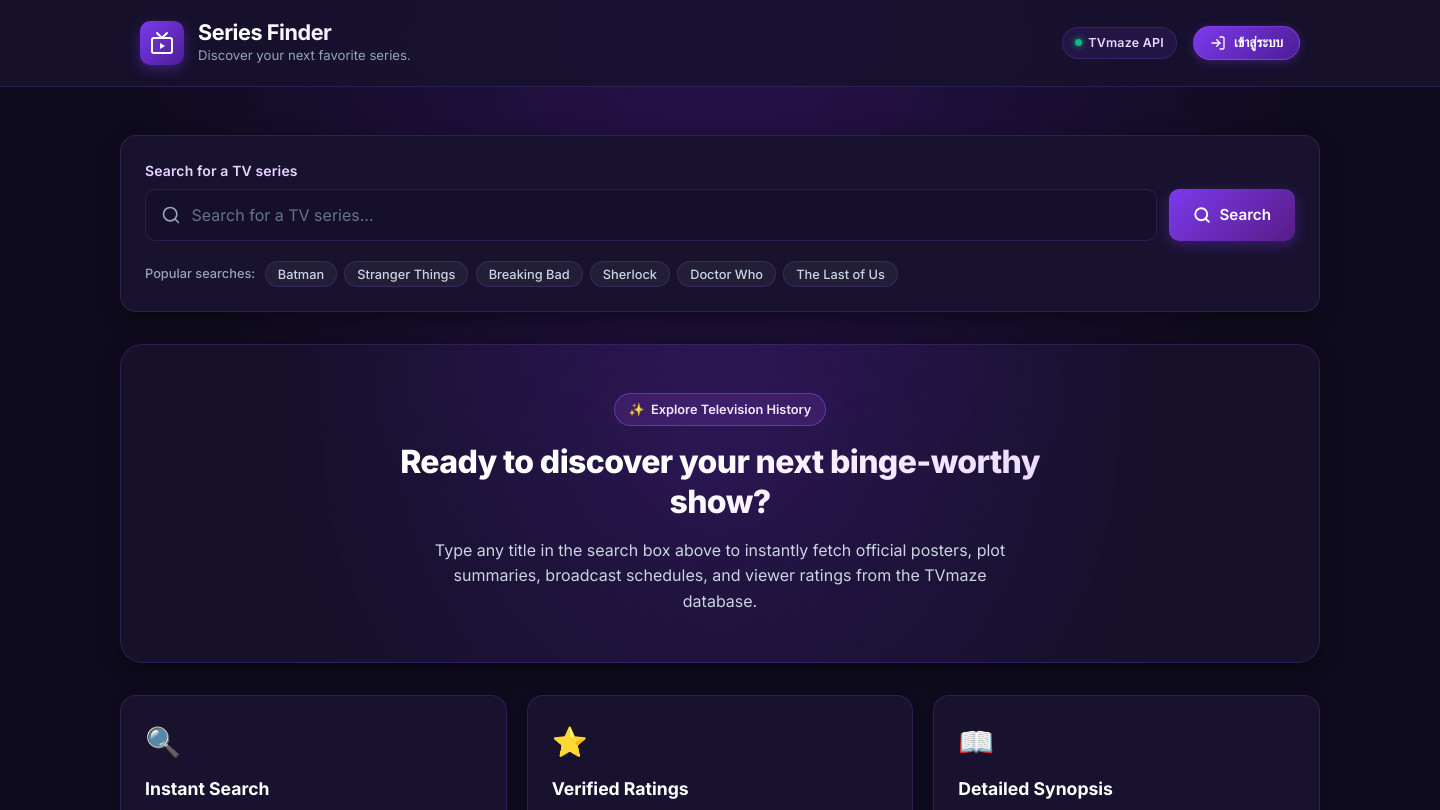
Scenario: Series Finder Web Application › safely handles missing poster, unrated scores, and missing metadata
The image size is (1440, 810).
Type "mystery" into the field labelled "Search for a TV series". click: (651, 215)
box: [145,189,1157,241]
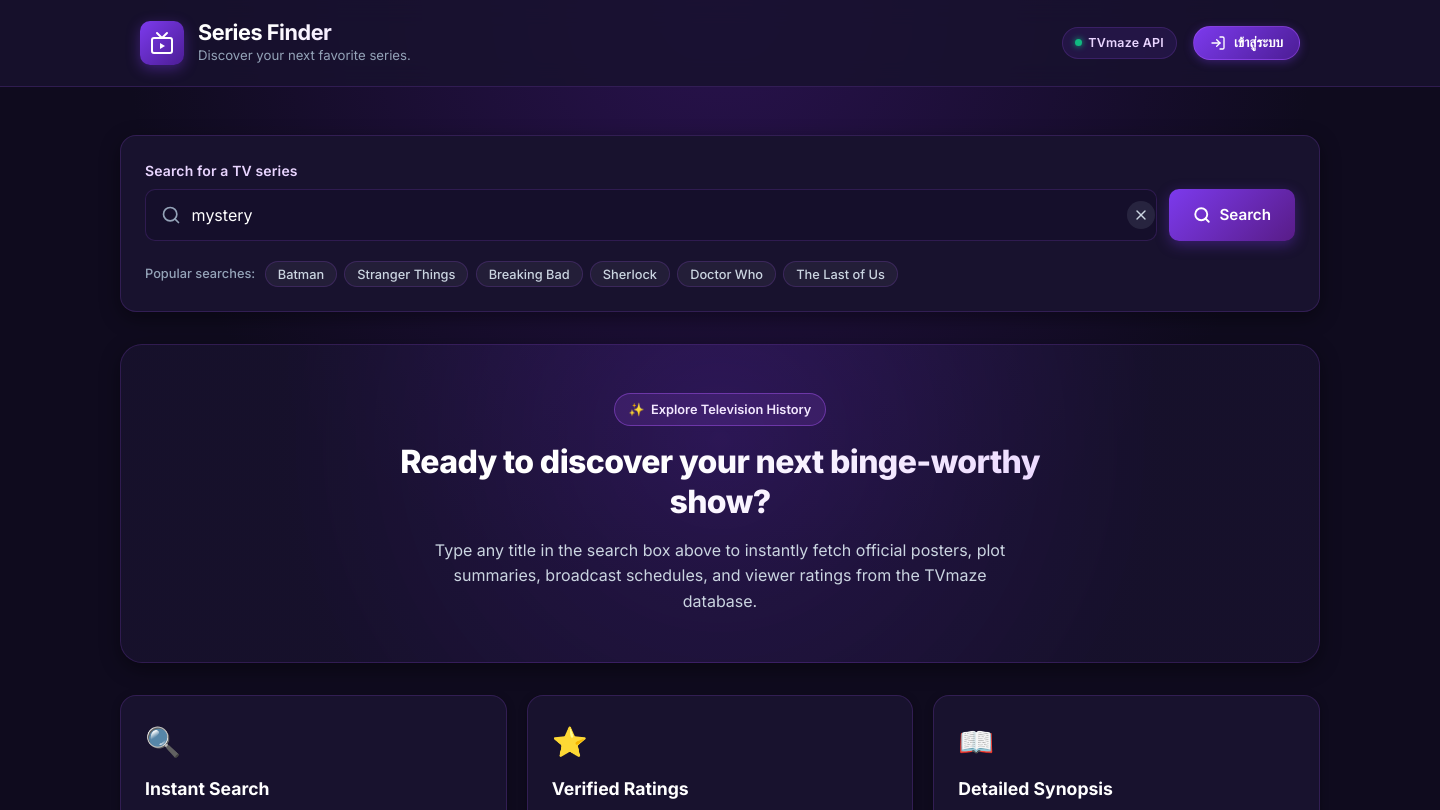
Submit the form, box [120,135,1320,312]
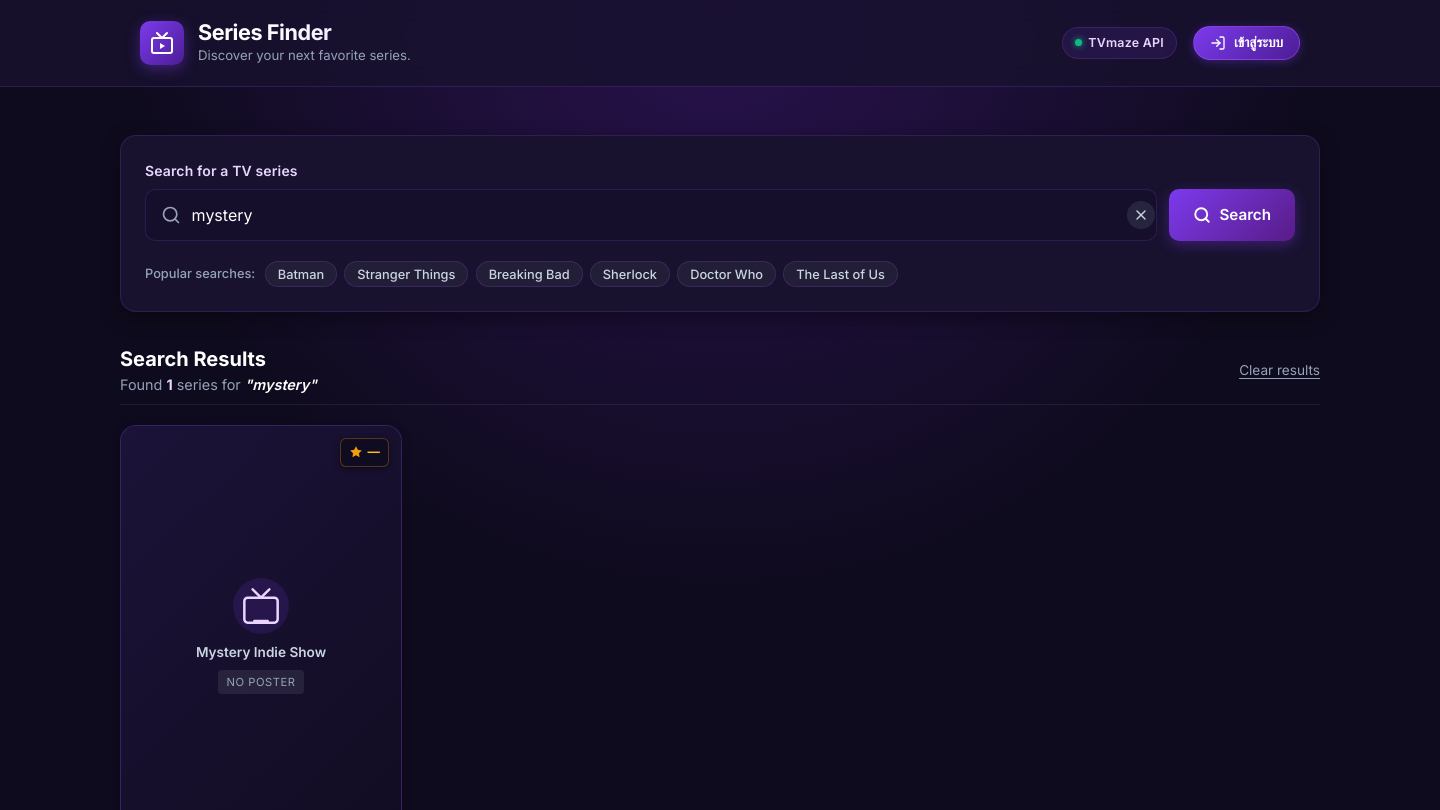
Result: the text "No Poster" is shown at [218,670,304,694]
